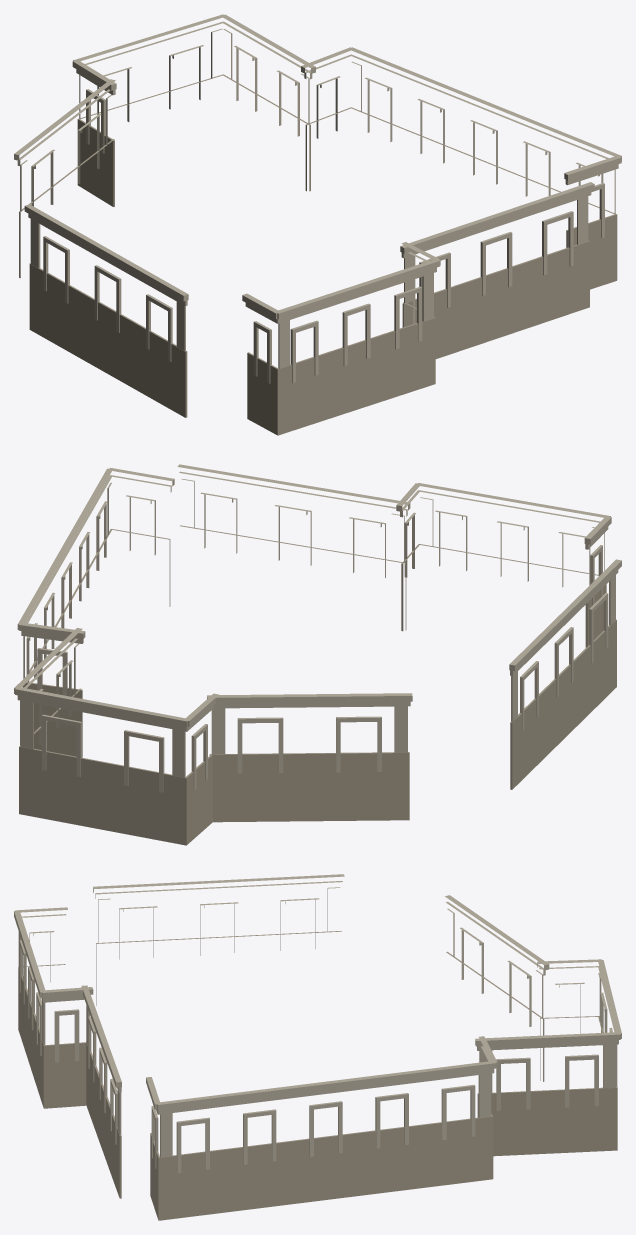
3 views of the same model, one above another, from view 1: azimuth 30°, elevation 25°; view 2: azimuth 150°, elevation 25°; view 3: azimuth 270°, elevation 25° (orthographic). The views are drawn at different scales.
Parts seen in each view (by area): view 1: detail; view 2: detail; view 3: detail.
Part boxes in pixels (box(x1,y1,x2,y2)): detail: box(14, 14, 621, 435); detail: box(14, 464, 621, 845); detail: box(14, 874, 621, 1220).
Size of the model in its own units: 25.93 by 6.16 by 28.85.
